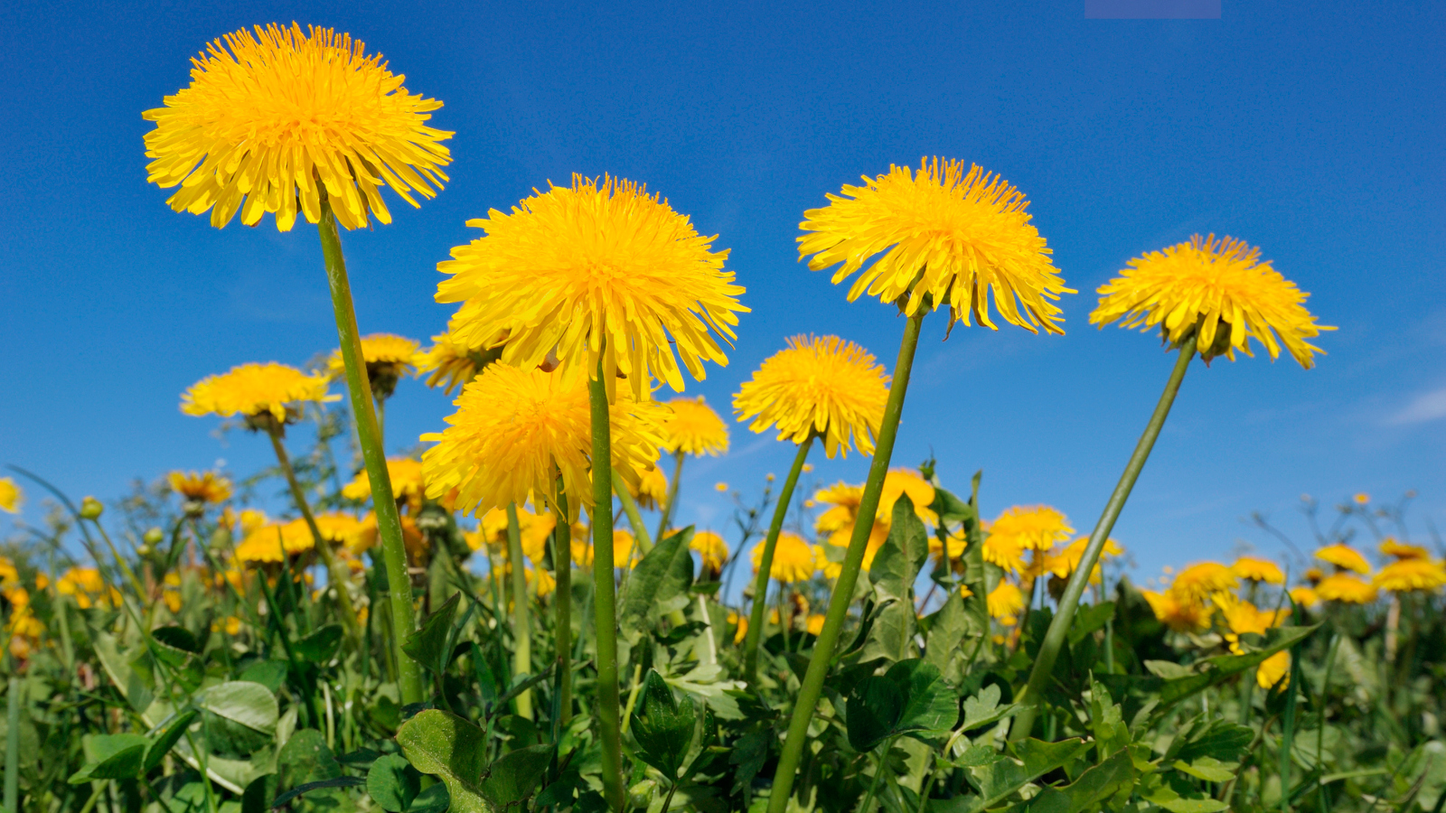begonvil: (125, 13, 477, 279), (450, 145, 742, 440), (793, 154, 1087, 411), (1101, 181, 1335, 442), (384, 377, 721, 536), (161, 335, 349, 454)
